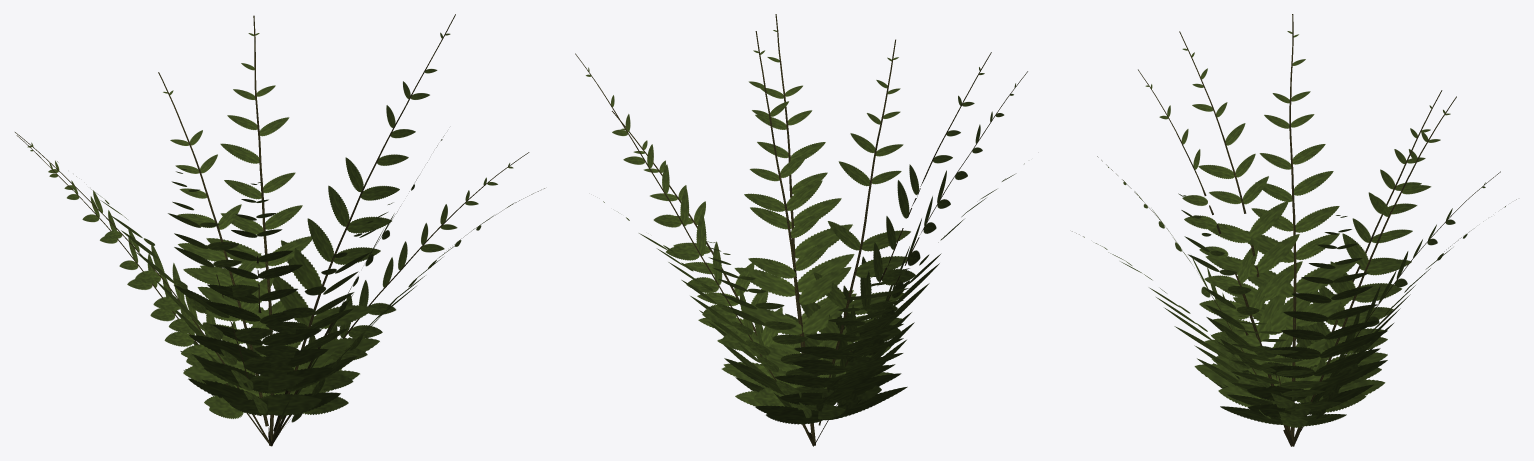
Rendered from bracken_v01_LOD1.glb.
3 views of the same model, side by side, from view 1: azimuth 30°, elevation 25°; view 2: azimuth 150°, elevation 25°; view 3: azimuth 270°, elevation 25° (orthographic). The views are drawn at different scales.
Visible parts, largest first — view 1: bracken_v01_LOD1; view 2: bracken_v01_LOD1; view 3: bracken_v01_LOD1.
Boxes of the visible parts, x1,y1,x2,y2 form: bracken_v01_LOD1: [15, 14, 544, 446]; bracken_v01_LOD1: [575, 14, 1027, 446]; bracken_v01_LOD1: [1072, 14, 1516, 446].
Size of the model in its own units: 1.67 by 1.28 by 1.51.
2 materials, 2 textured.
